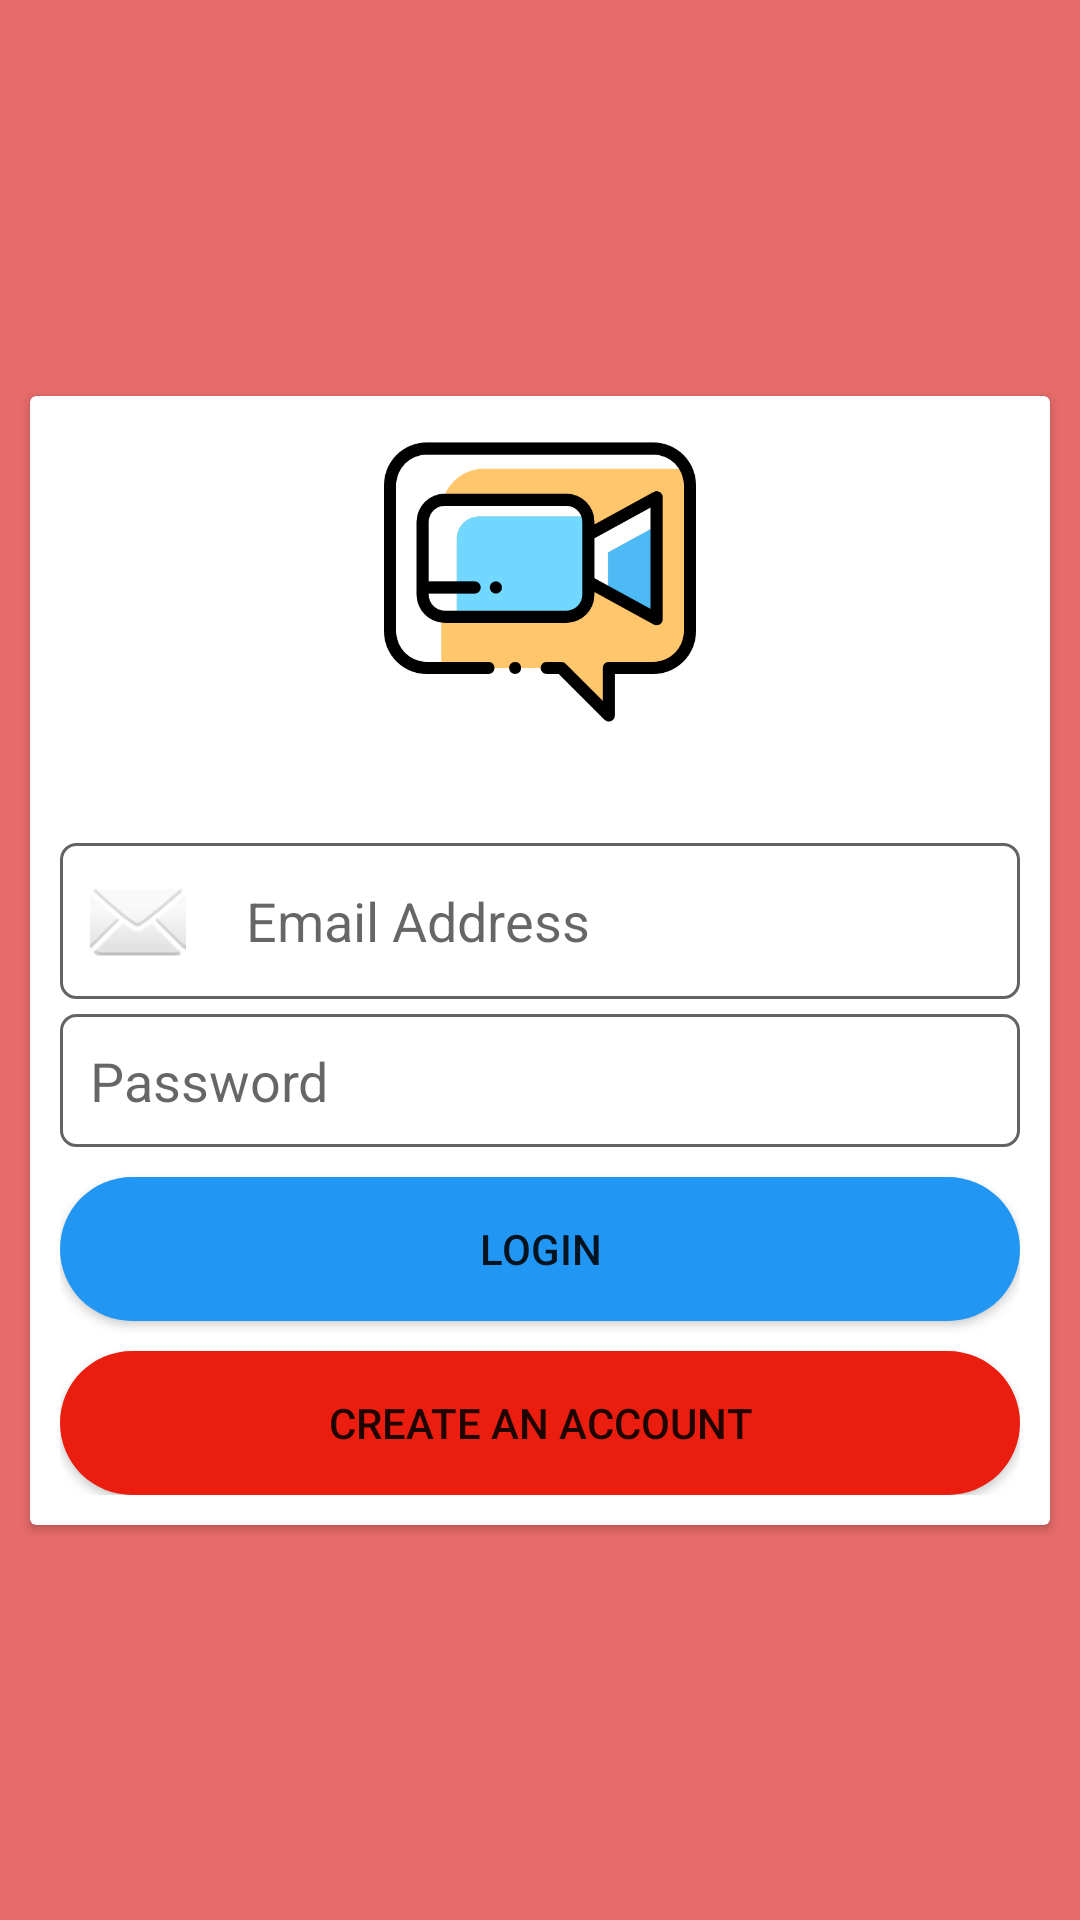

Point at icon controls on the screen. Image size 1080w x 1920h, points as [x,y].
videocall: [540,582]
